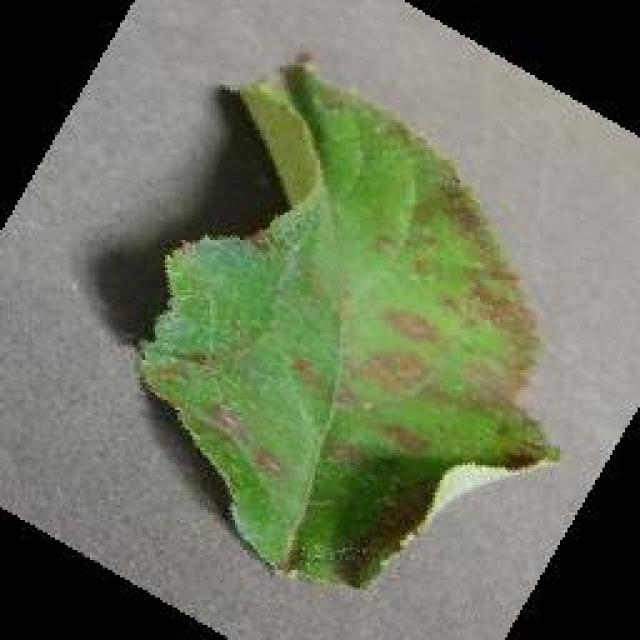apple cedar apple rust: (132, 52, 560, 590)
